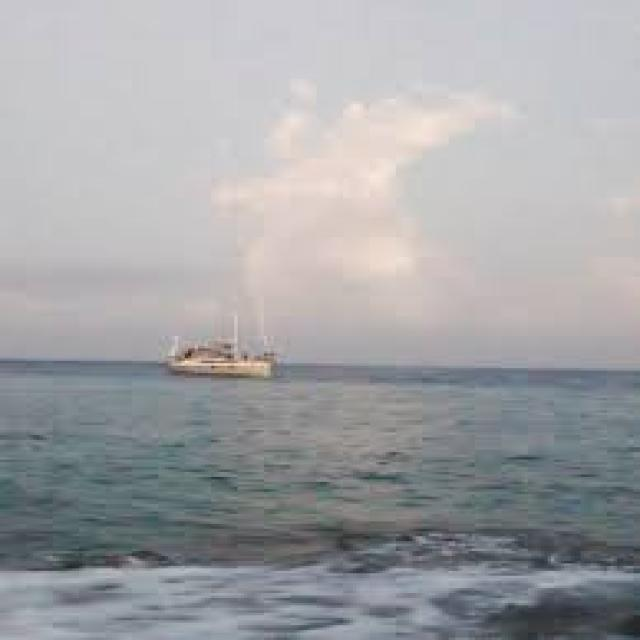passenger ship: (147, 308, 290, 374)
